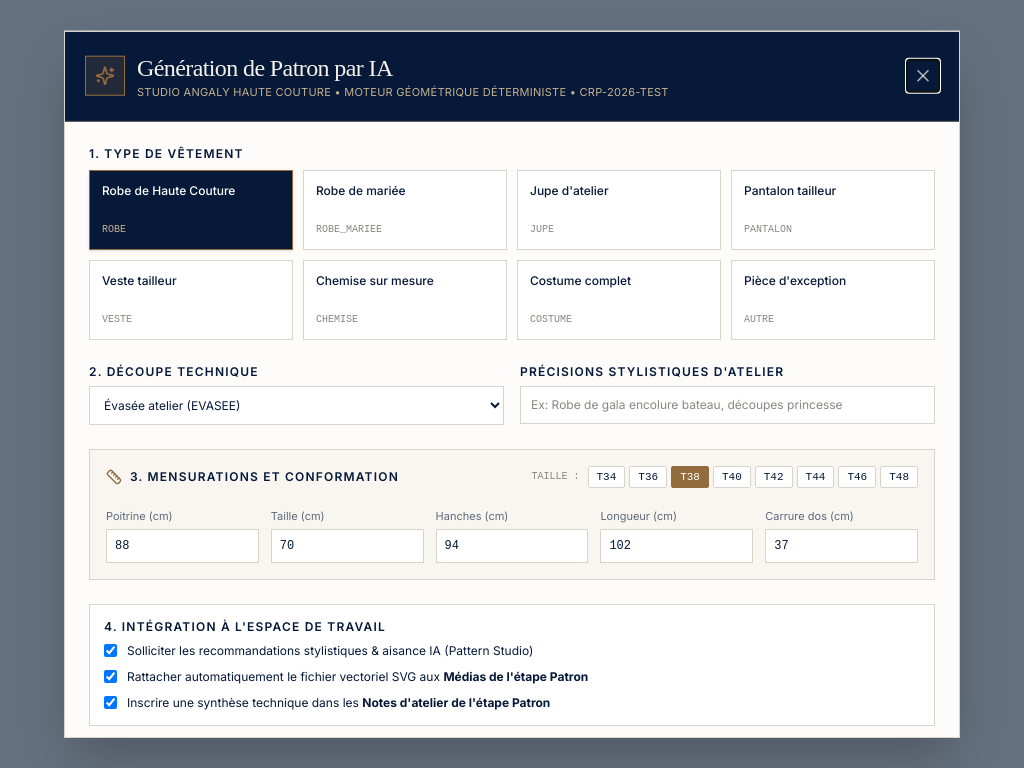
CreationProjectAiPatternModal › allows selecting standard sizes and updates measurements
expect the number field labelled "Poitrine (cm)" holds "88": met, box top-left (106, 528), bottom-right (259, 562)
# Click on size T42
Click the button "T42" at (774, 476), box top-left (755, 465), bottom-right (793, 488)
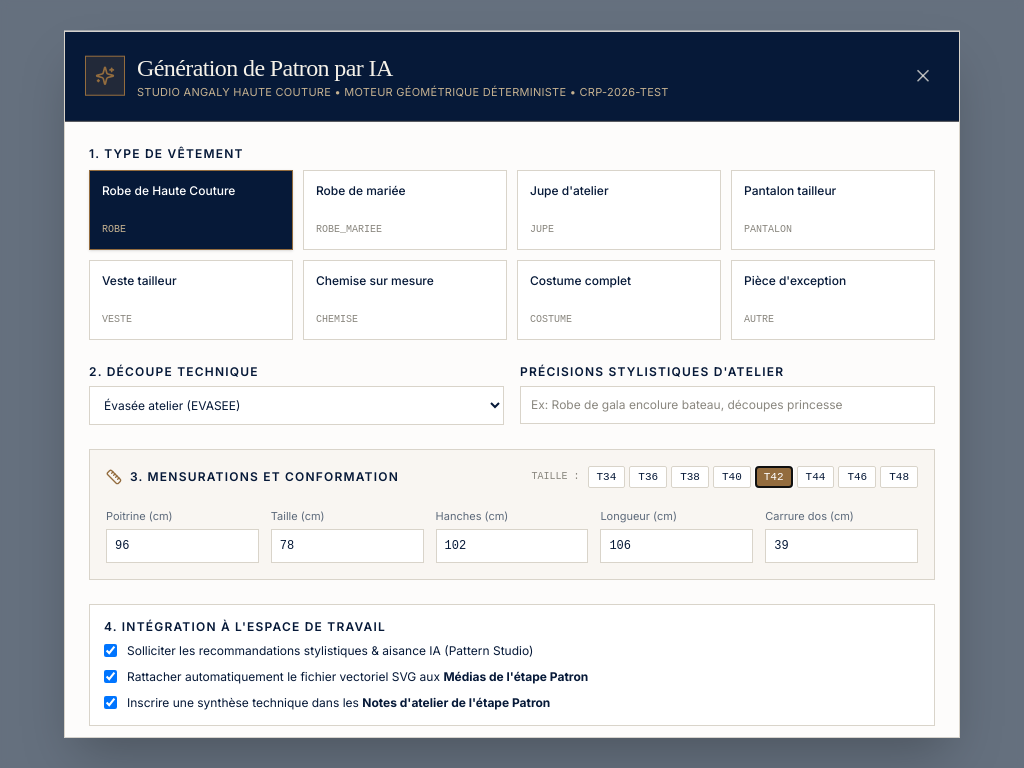
expect the number field labelled "Poitrine (cm)" holds "96": met, box top-left (106, 528), bottom-right (259, 562)
